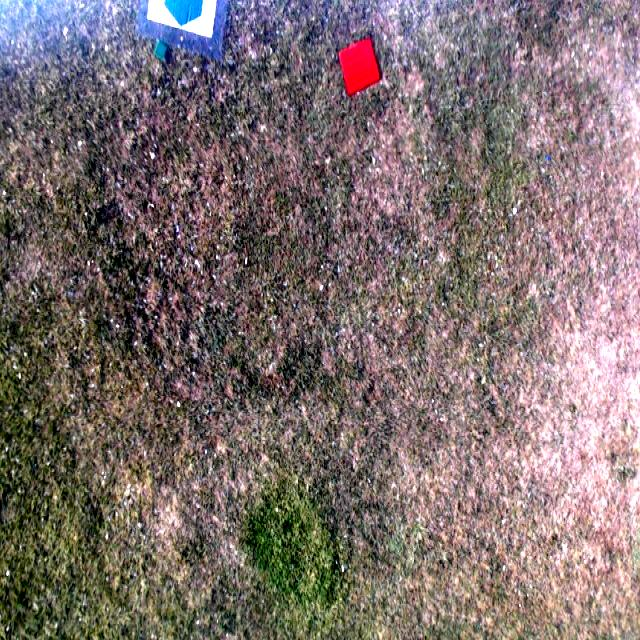red_square: (339, 36, 383, 97)
